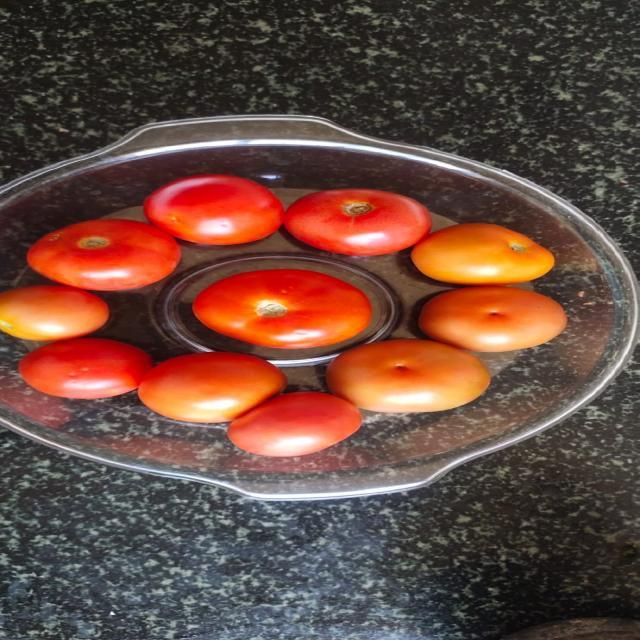Tomato: (191, 269, 370, 349), (325, 339, 490, 413), (25, 219, 179, 290), (136, 352, 285, 423), (142, 174, 283, 245), (283, 188, 431, 255), (418, 286, 567, 352), (411, 223, 555, 286), (227, 392, 361, 457), (16, 338, 151, 399), (0, 286, 107, 341)
